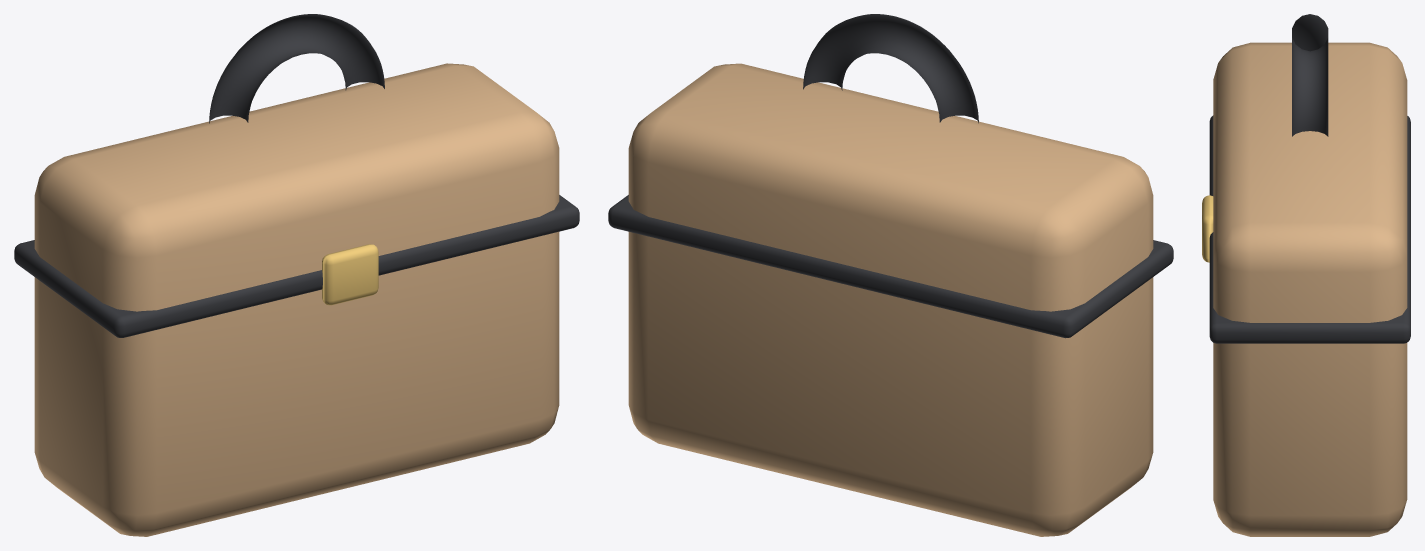
File: career.glb
3 renders of one model, left to right at view 1: azimuth 30°, elevation 25°; view 2: azimuth 150°, elevation 25°; view 3: azimuth 270°, elevation 25°, orthographic. The views are drawn at different scales.
Parts seen in each view (by area): view 1: career; view 2: career; view 3: career.
Part boxes in pixels (bbox=[...]): career: bbox=[14, 14, 579, 536]; career: bbox=[608, 14, 1173, 536]; career: bbox=[1202, 14, 1410, 536].
Bounding box in the file's own units: 0.6802 × 0.625 × 0.2798.
